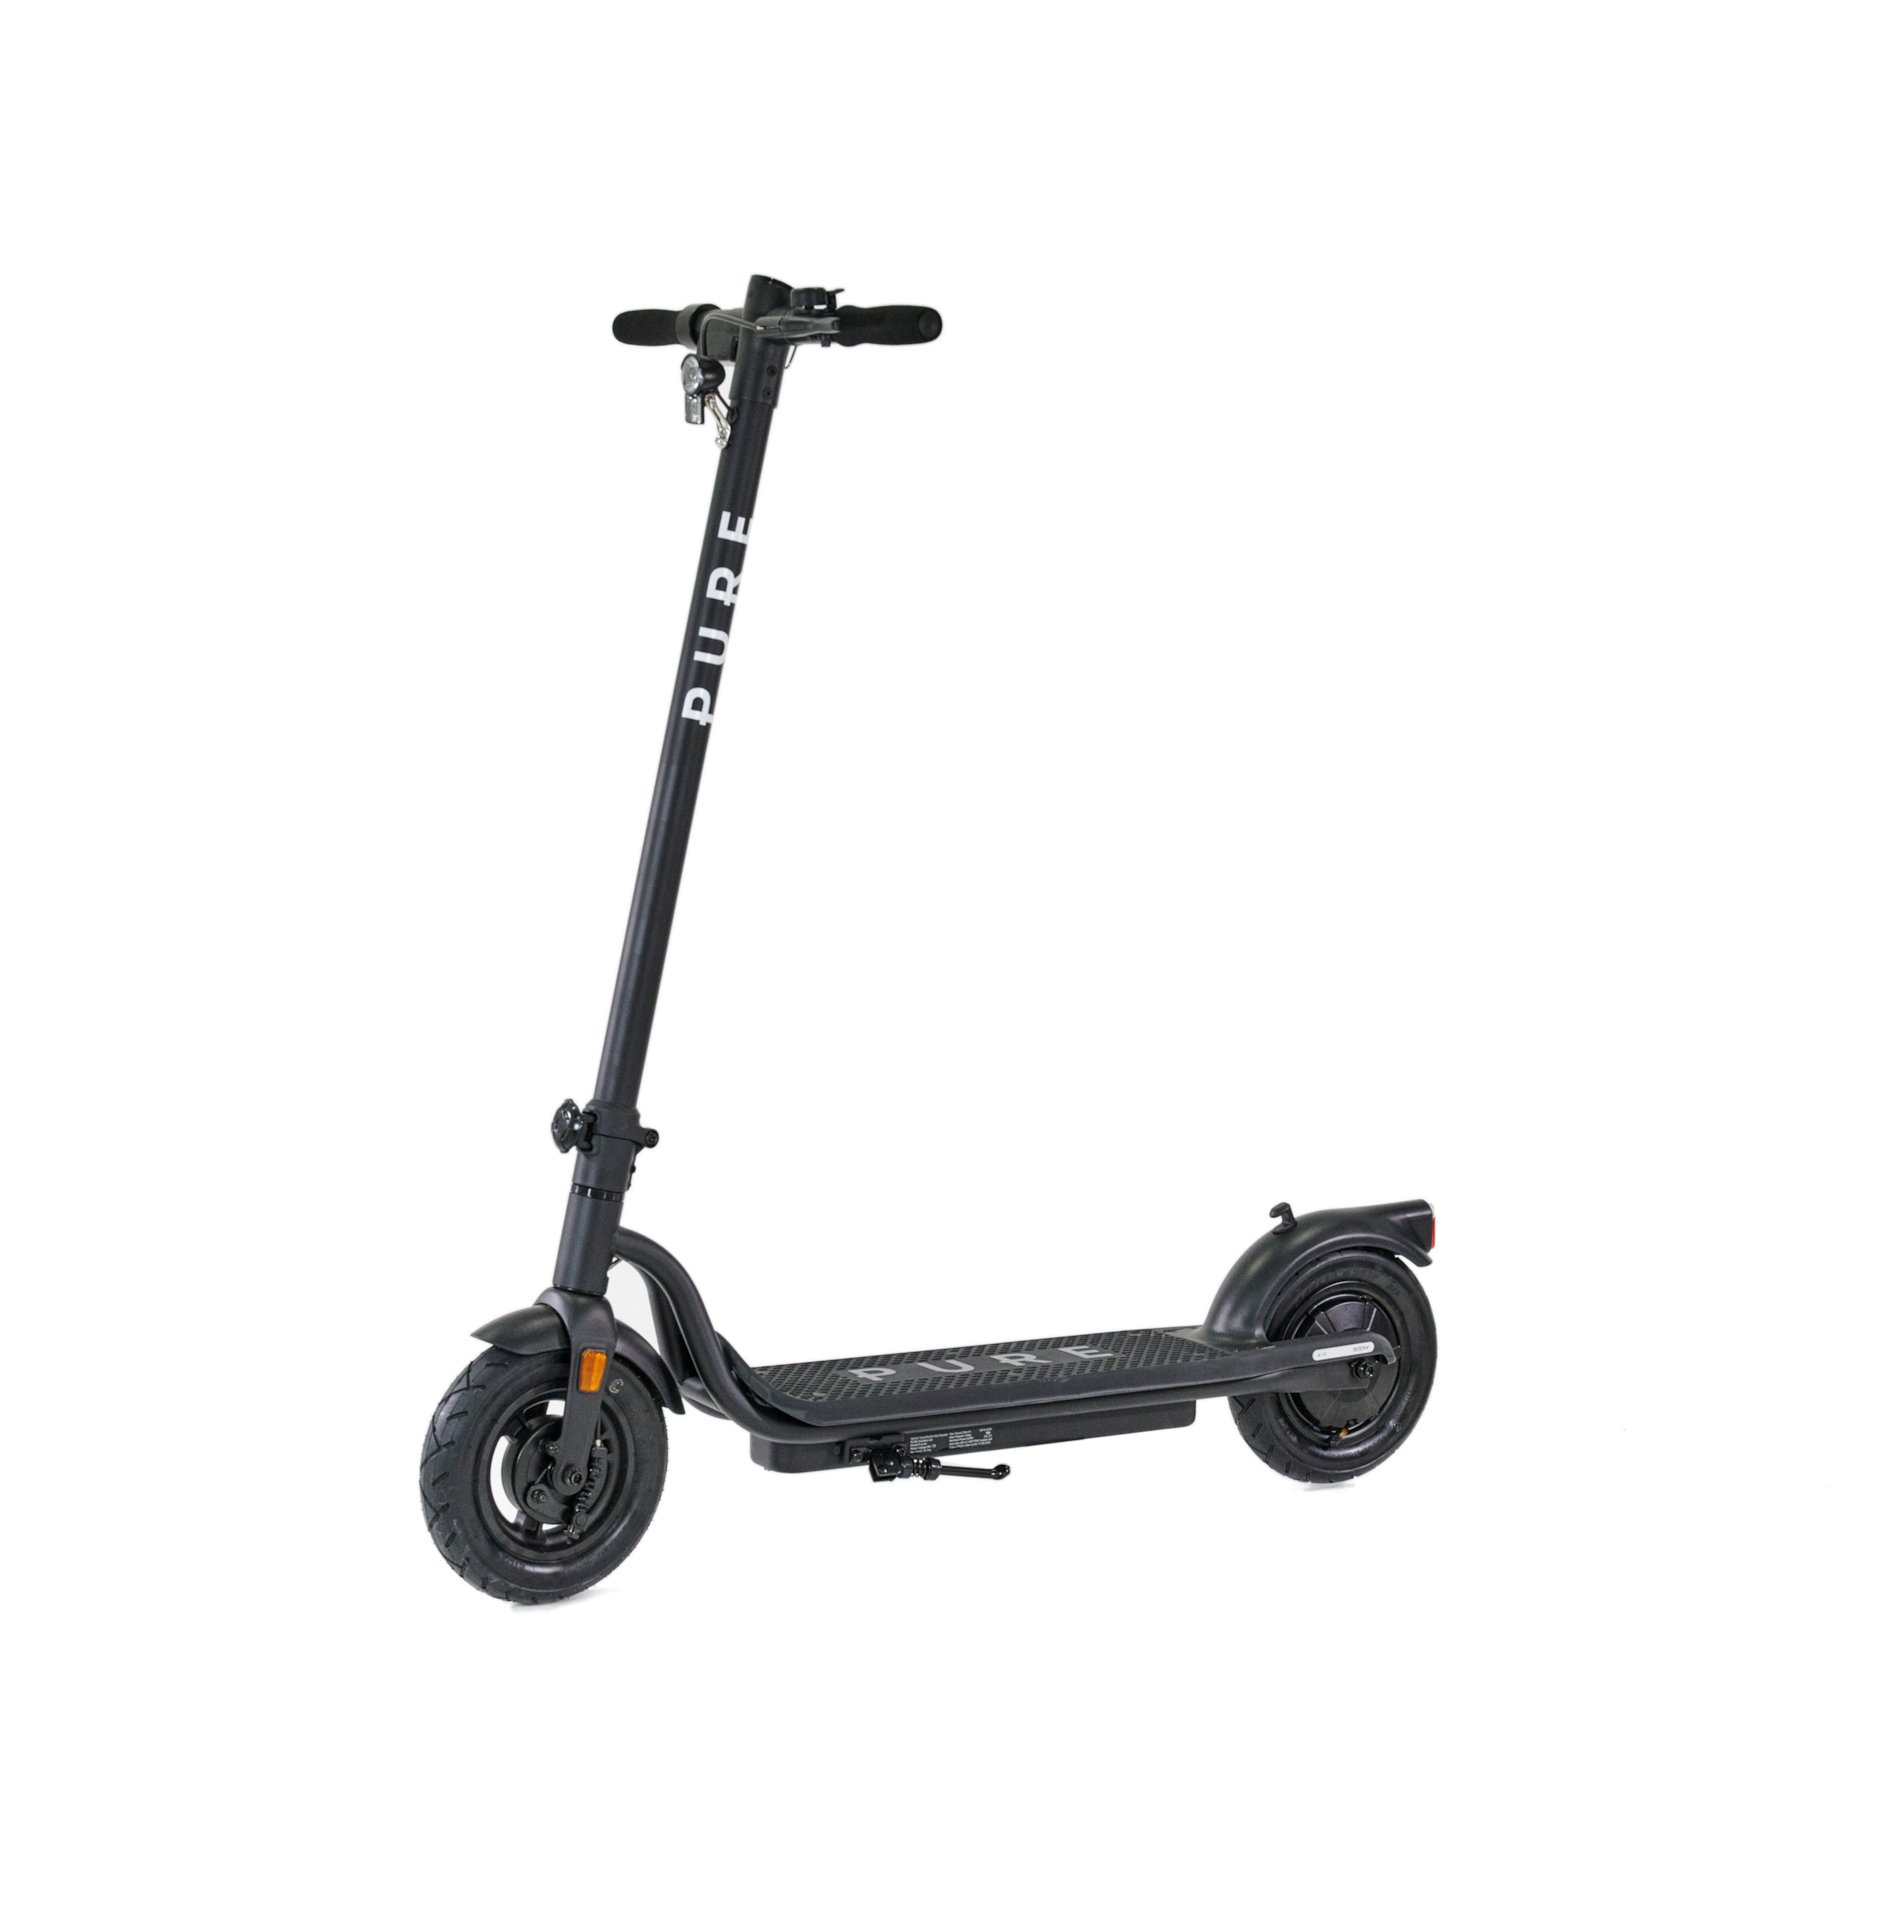scooter: (413, 272, 1447, 1611)
